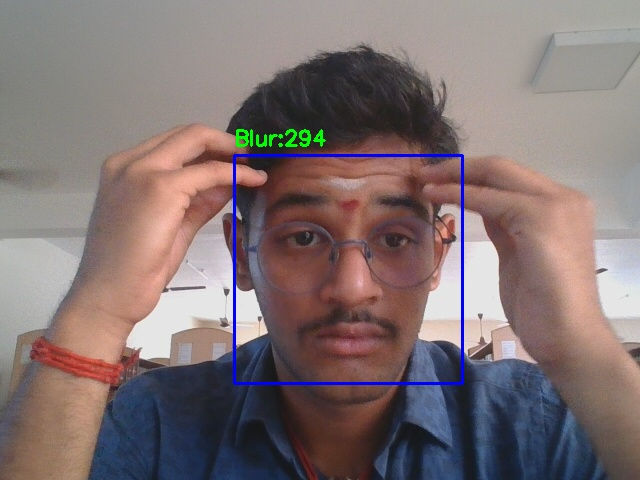real: (234, 155, 462, 383)
